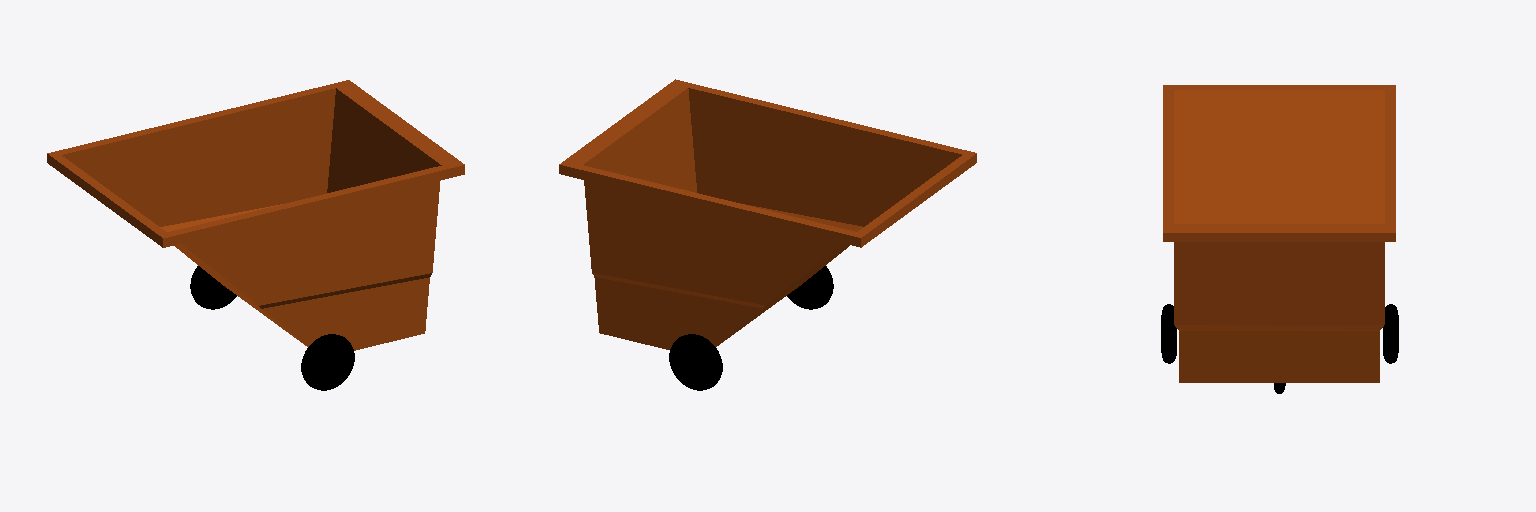
The model's file is orangetrashcan.obj.
3 renders of one model, left to right at view 1: azimuth 30°, elevation 25°; view 2: azimuth 150°, elevation 25°; view 3: azimuth 270°, elevation 25°, orthographic.
Visible parts, largest first — view 1: orangetrashcan1:Mesh; view 2: orangetrashcan1:Mesh; view 3: orangetrashcan1:Mesh.
Boxes of the visible parts, x1=… form: orangetrashcan1:Mesh: x1=47, y1=80, x2=464, y2=390; orangetrashcan1:Mesh: x1=559, y1=79, x2=976, y2=390; orangetrashcan1:Mesh: x1=1161, y1=85, x2=1398, y2=393.
Bounding box in the file's own units: 0.7022 × 0.431 × 0.4785.